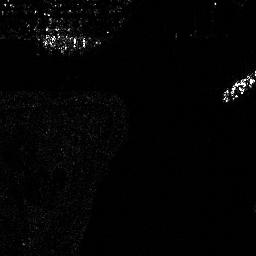ship: (224, 66, 256, 104)
